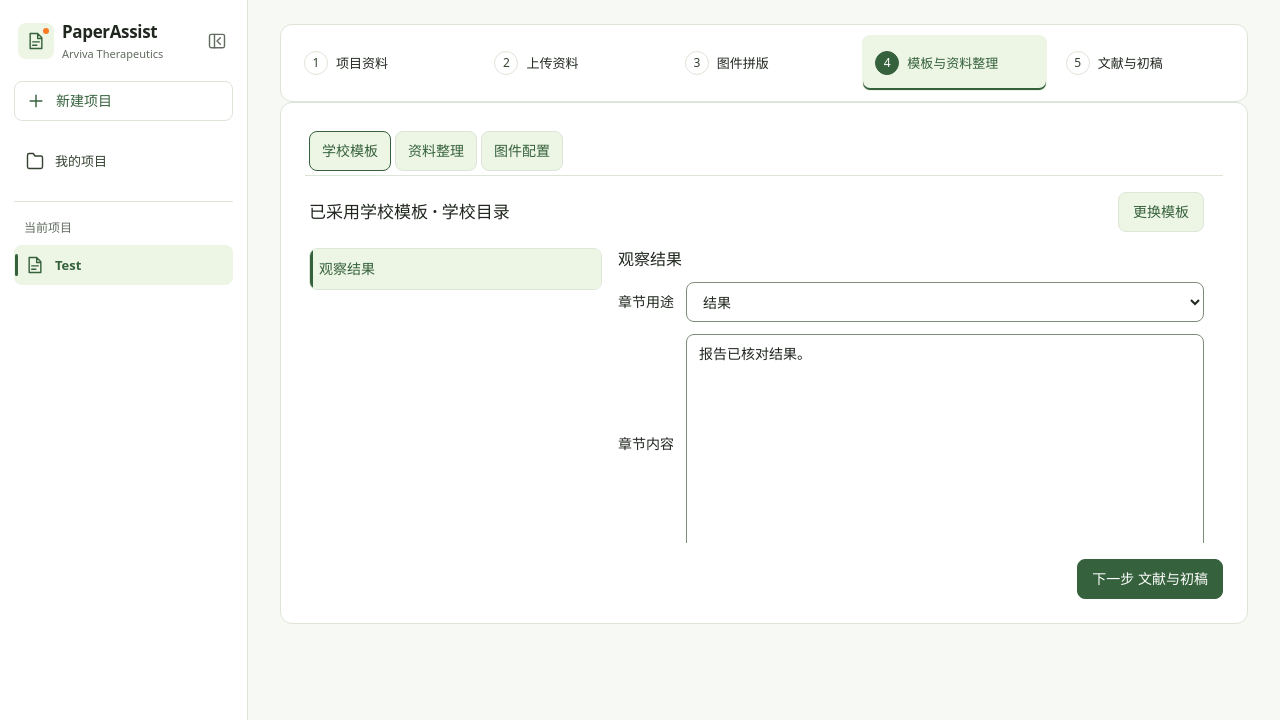
Scenario: uses the latest profile revision when alternating thesis figure and chapter saves
Earlier steps of the test are not shown.
Later steps or results of the test are not shown.
Click the button "图件配置": point(522, 151) 481,131 -> 563,171
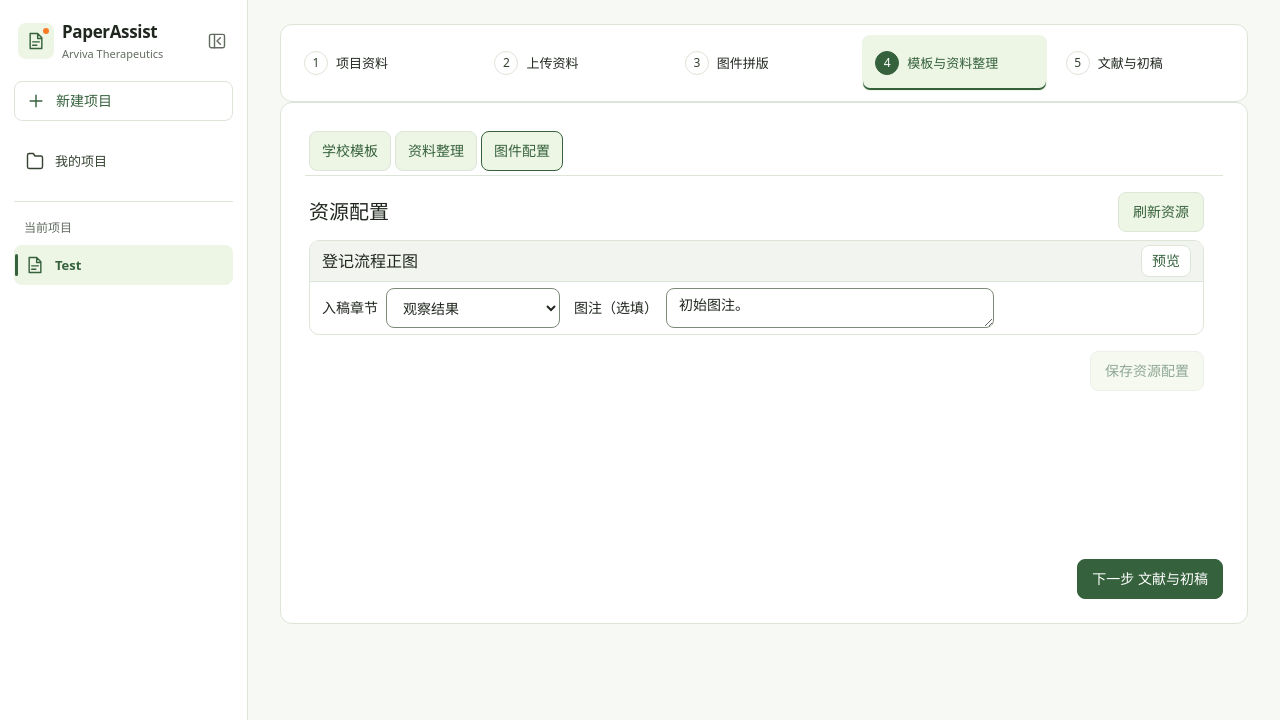
Result: the text box named "图注 登记流程正图" is enabled at 666,288 -> 994,328
